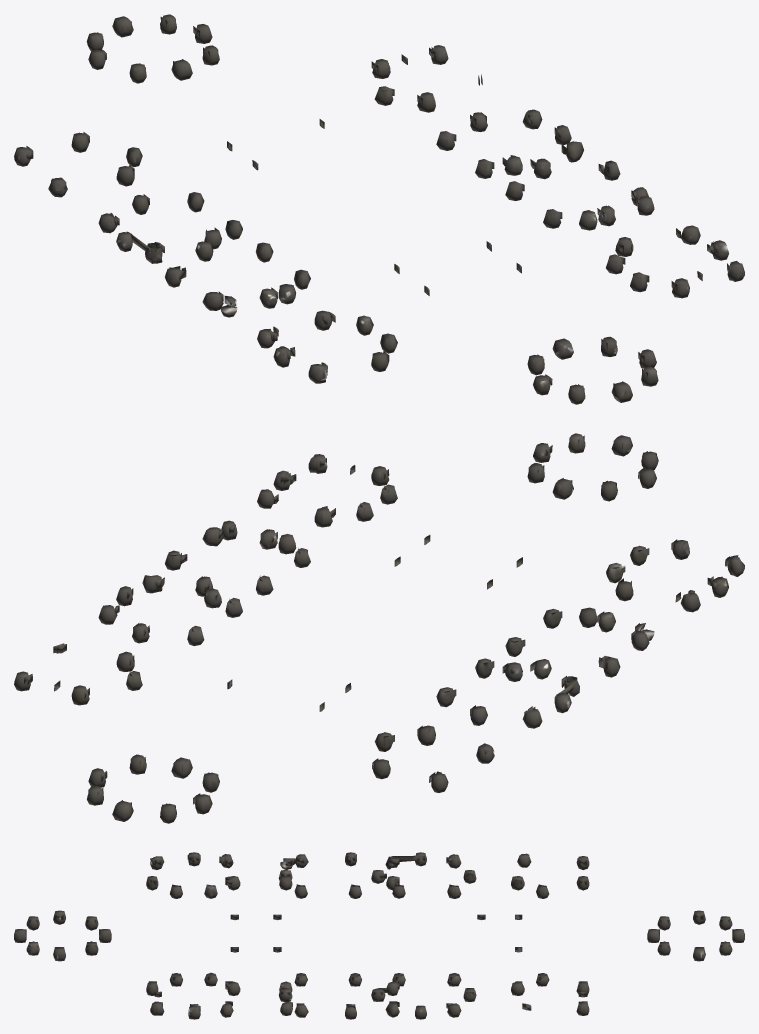
The model's file is Furniture__conference_table_realistic_style_fdb45f1f_v4.cluster.glb.
The picture shows the model from 3 angles, top to bottom: view 1: azimuth 30°, elevation 25°; view 2: azimuth 150°, elevation 25°; view 3: azimuth 270°, elevation 25°; orthographic projection. The views are drawn at different scales.
Parts seen in each view (by area): view 1: texture_pbr_20250901; view 2: texture_pbr_20250901; view 3: texture_pbr_20250901.
Boxes of the visible parts, left/top/right/bottom form: texture_pbr_20250901: left=14, top=14, right=744, bottom=404; texture_pbr_20250901: left=14, top=433, right=744, bottom=823; texture_pbr_20250901: left=14, top=852, right=744, bottom=1019.
Size of the model in its own units: 0.9765 by 0.0328 by 1.9.
Materials: 1 (1 with a texture image).
